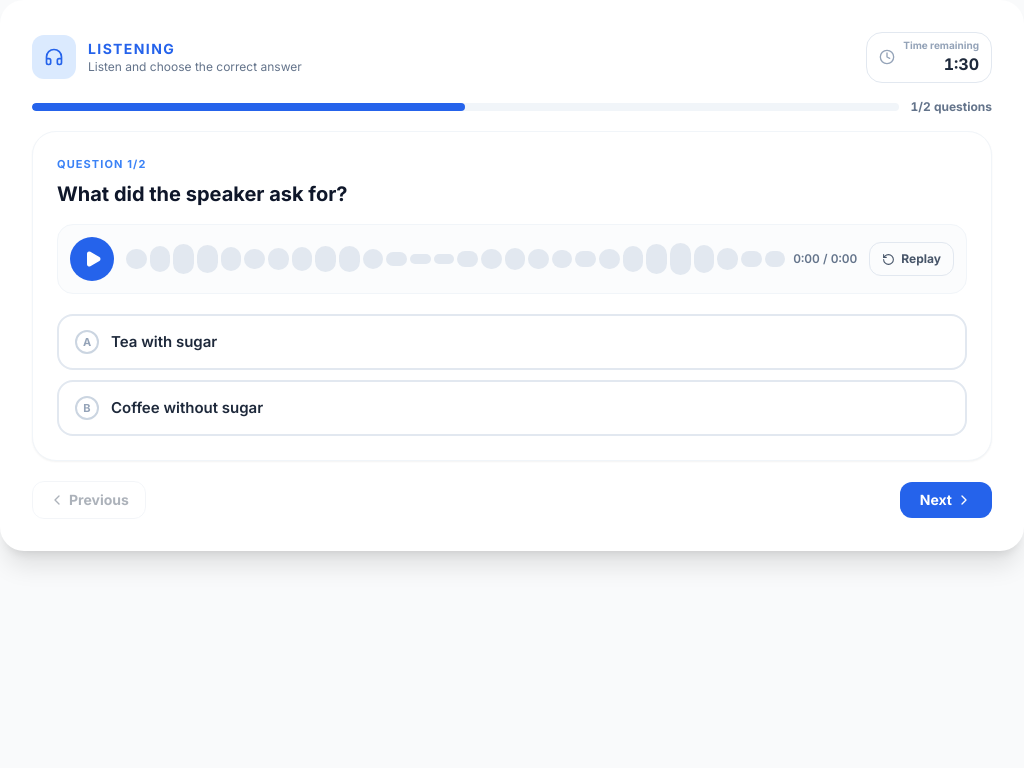
PlacementTestStep › pauses the listening question's audio and unmounts it once the student moves to the next question
Click the radio button labelled "A Tea with sugar" at (164, 341), box [57,314,967,370]
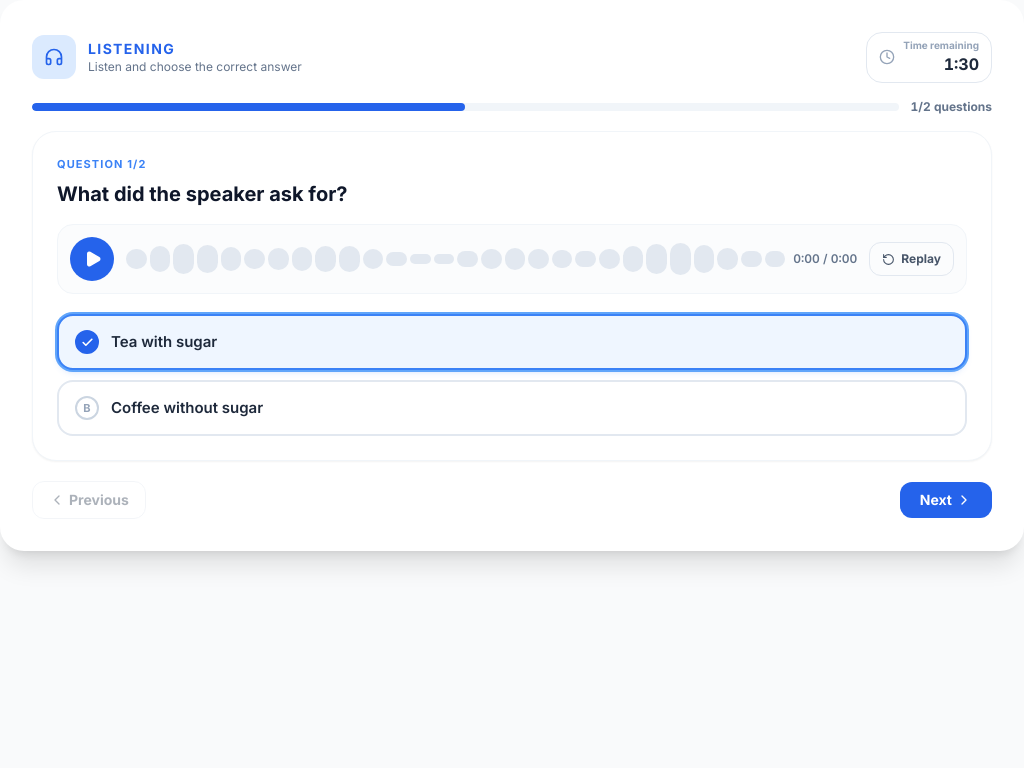
Click the button "Next" at (946, 500), box [900,482,992,518]
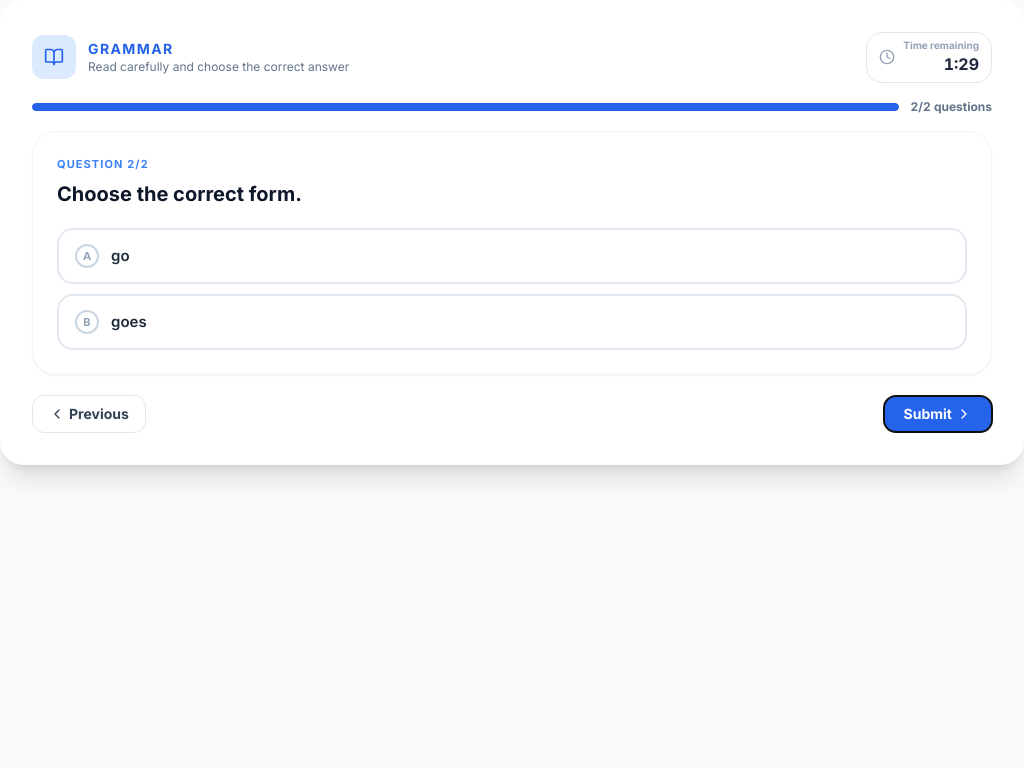
Check: the heading "Choose the correct form." is shown, box [57,182,302,206]
